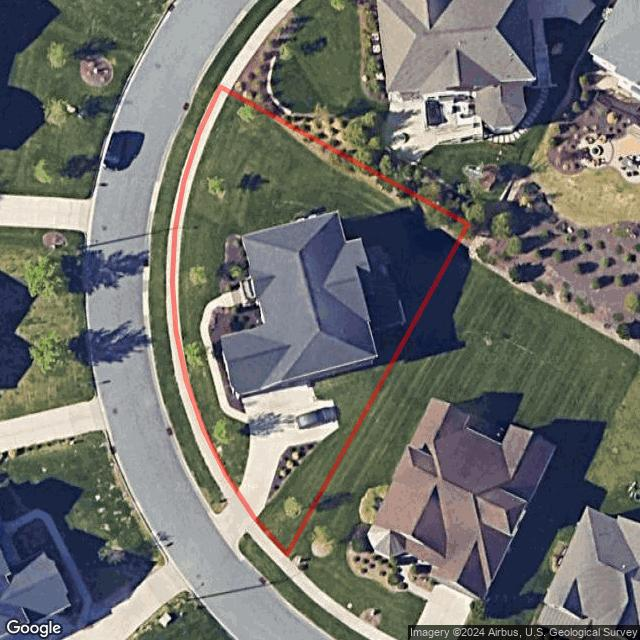Driveway: (238, 379, 342, 520)
Extra-Driveway: (215, 495, 257, 549)
Extra-Lawn: (148, 78, 227, 516), (238, 532, 279, 581)
Extra-Sidewalk: (165, 156, 236, 506), (245, 521, 286, 568)
House: (220, 211, 377, 399)
Lawn: (174, 88, 468, 552)
Other: (276, 119, 468, 250), (209, 303, 264, 412), (365, 245, 406, 335), (266, 441, 324, 503), (218, 234, 251, 297)
Sidewalk: (172, 87, 230, 378), (199, 276, 258, 424)
